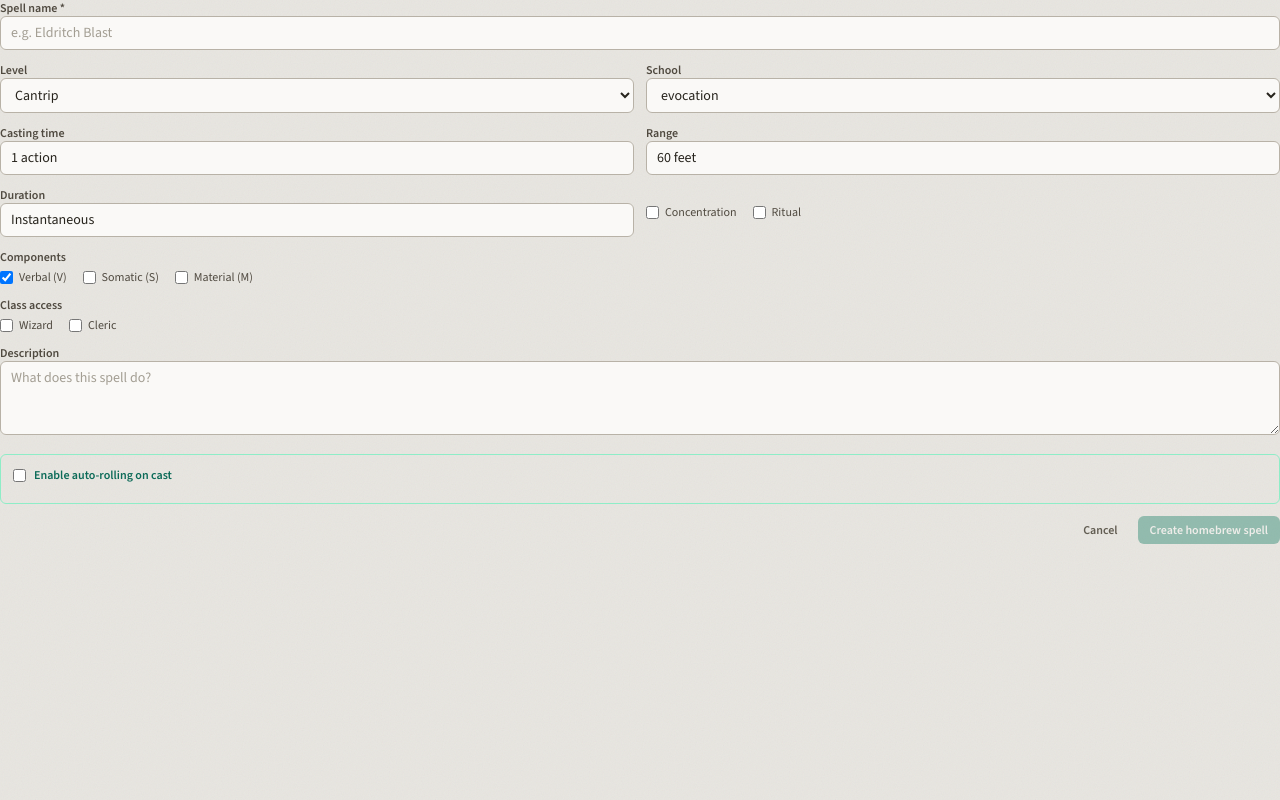
HomebrewSpellForm › shows save ability only when the effect is damage with attack type 'save'
The width and height of the screenshot is (1280, 800).
Check: the field labelled "save ability" is not shown
Click the checkbox labelled "Enable auto-rolling on cast": (20, 475) [13,468,26,482]
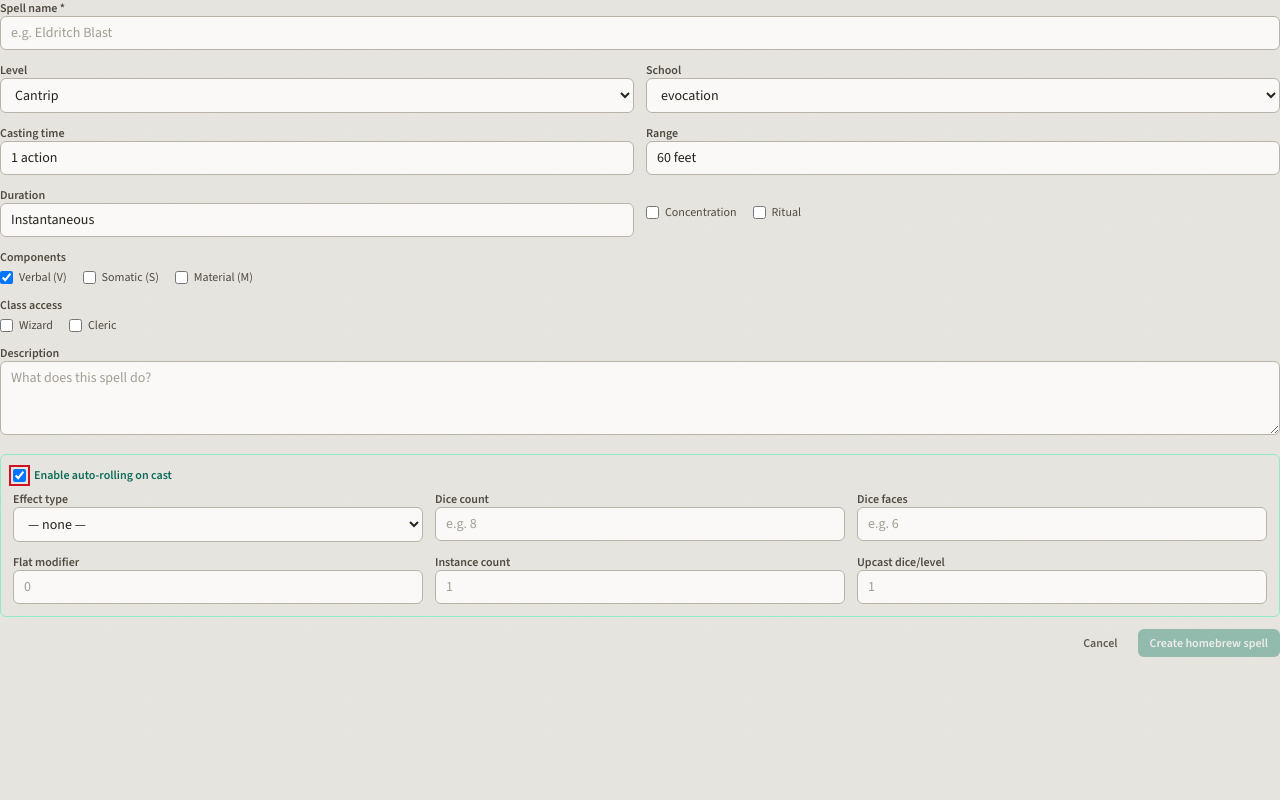
Check: the field labelled "save ability" is not shown
Select "Damage" in the dropdown labelled "Effect type": (218, 524) [13,507,423,542]
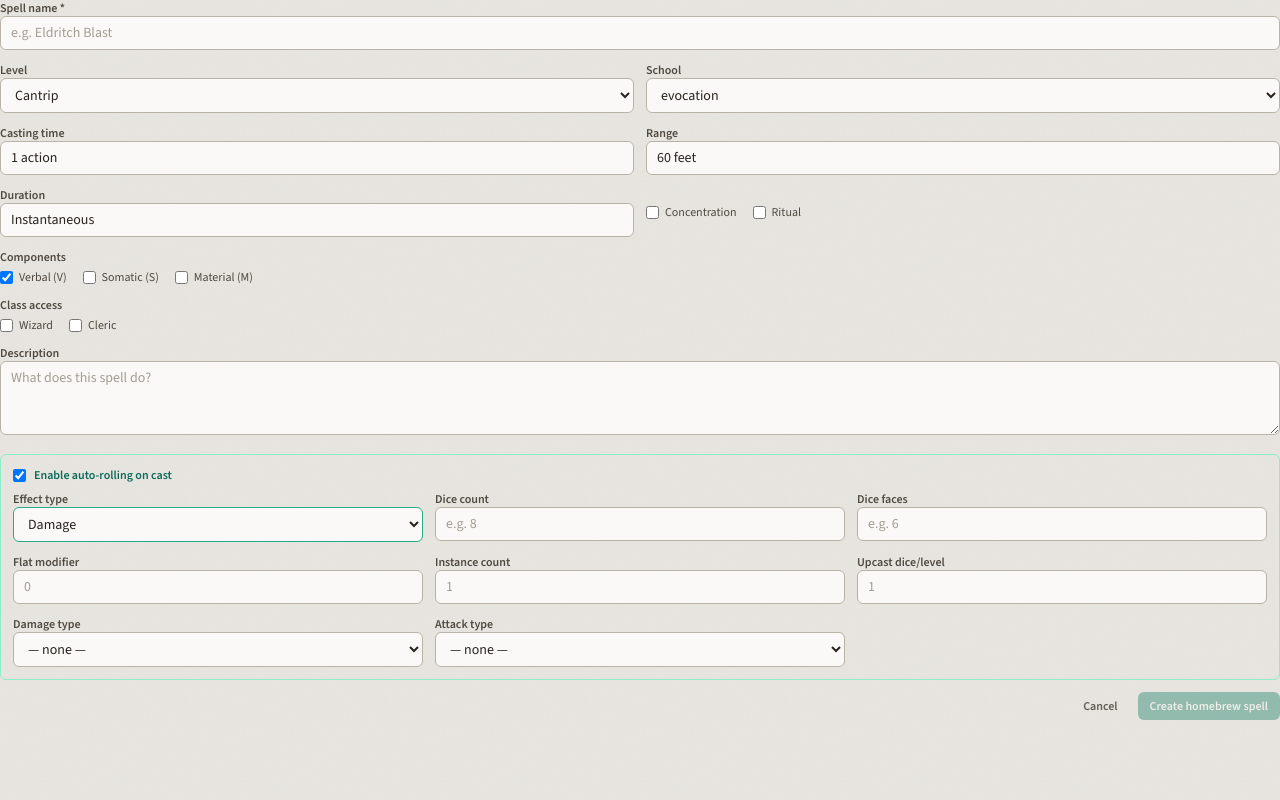
Check: the field labelled "save ability" is not shown
Select "Spell attack" in the dropdown labelled "Attack type": (640, 650) [435,632,845,667]
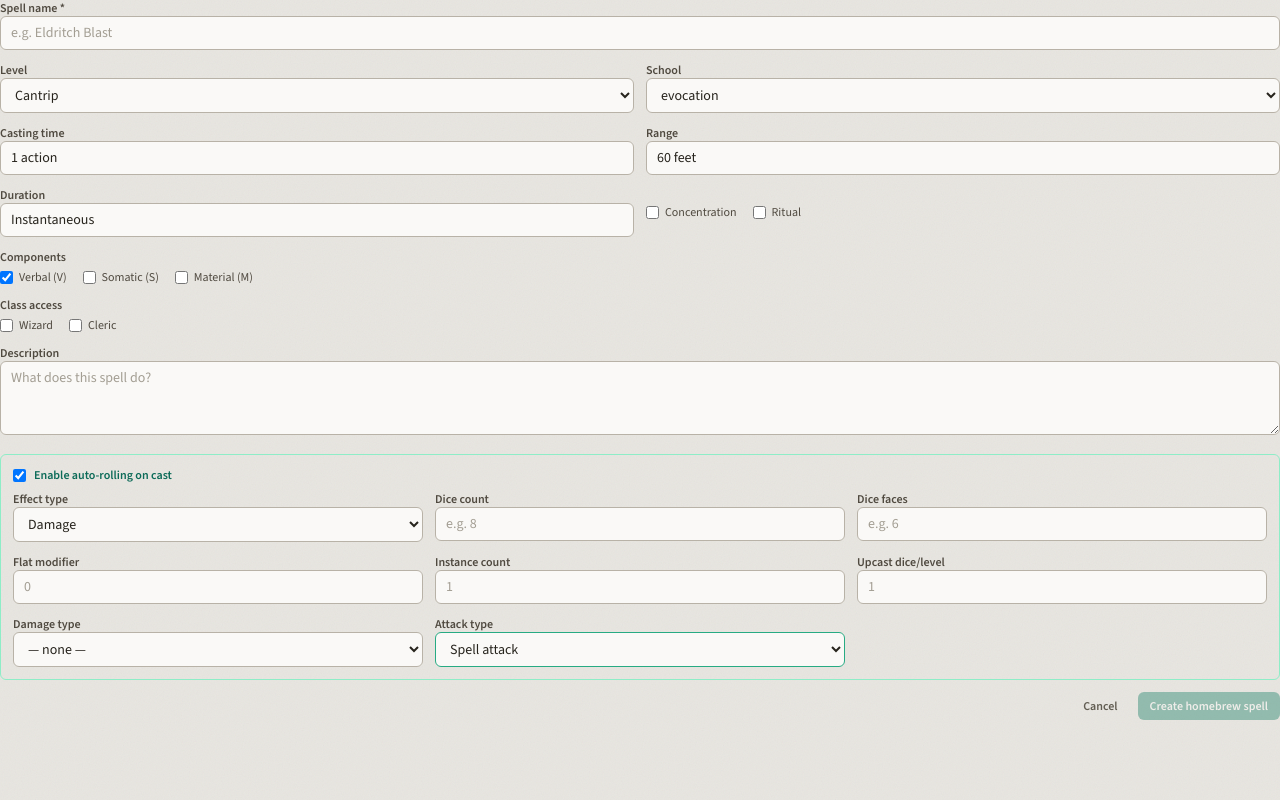
Check: the field labelled "save ability" is not shown
Select "Saving throw" in the dropdown labelled "Attack type": (640, 650) [435,632,845,667]
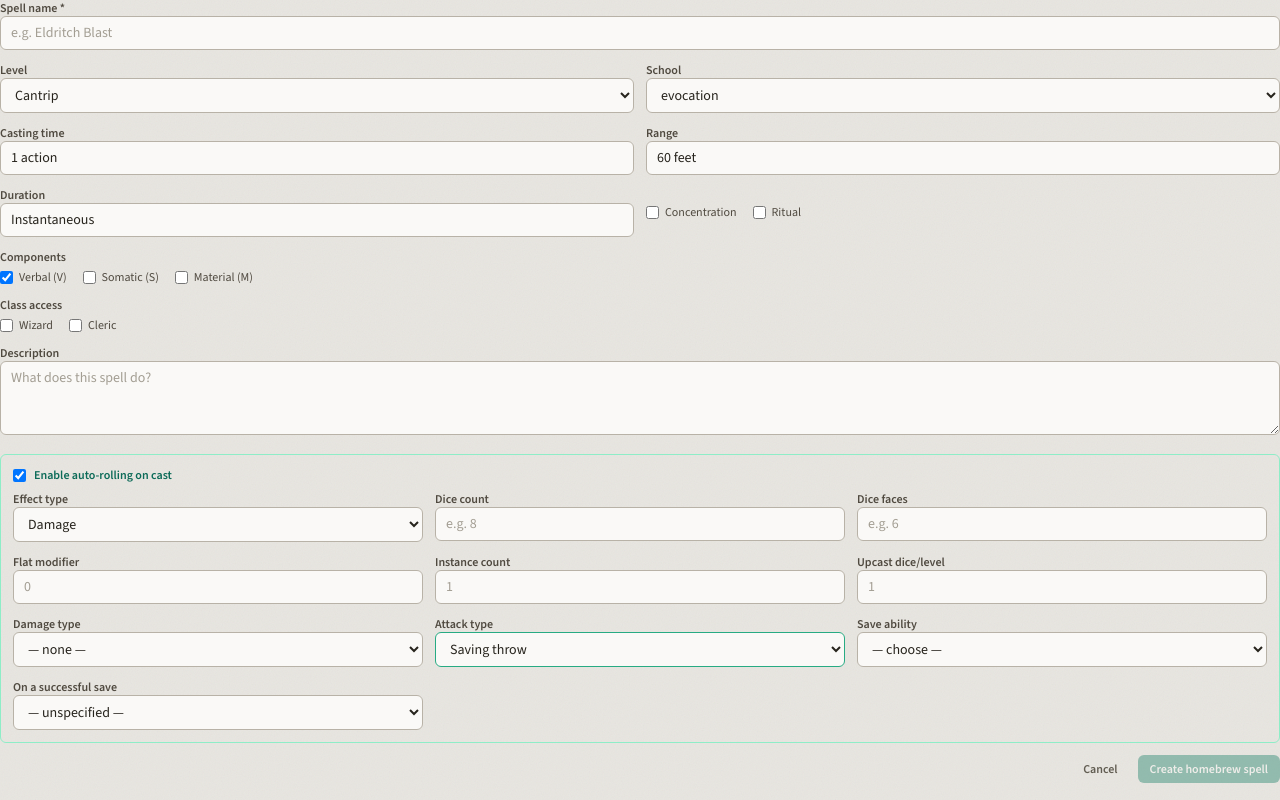
Check: the dropdown labelled "Save ability" is shown, box [857,632,1267,667]
